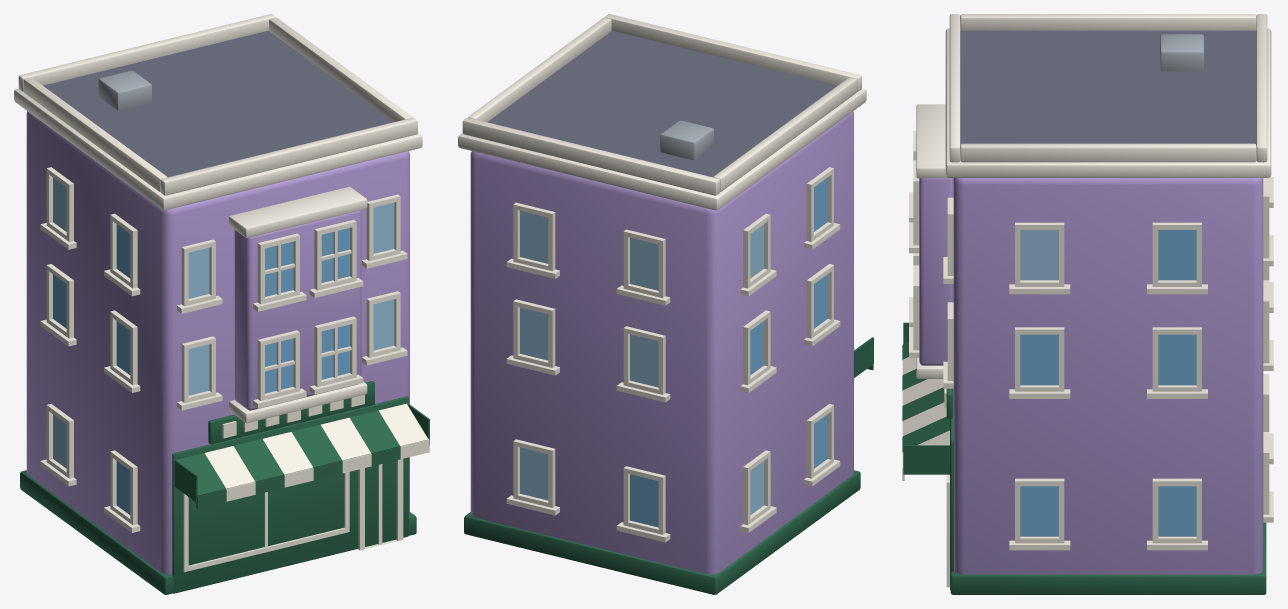
The model's file is building_corner_shop.glb.
3 views of the same model, side by side, from view 1: azimuth 30°, elevation 25°; view 2: azimuth 150°, elevation 25°; view 3: azimuth 270°, elevation 25° (orthographic). The views are drawn at different scales.
Visible parts, largest first — view 1: building; view 2: building; view 3: building.
Part boxes in pixels (<box>): building: <box>14,14,429,594</box>; building: <box>458,14,873,594</box>; building: <box>902,14,1273,594</box>.
Size of the model in its own units: 6.72 by 10.22 by 7.56.
